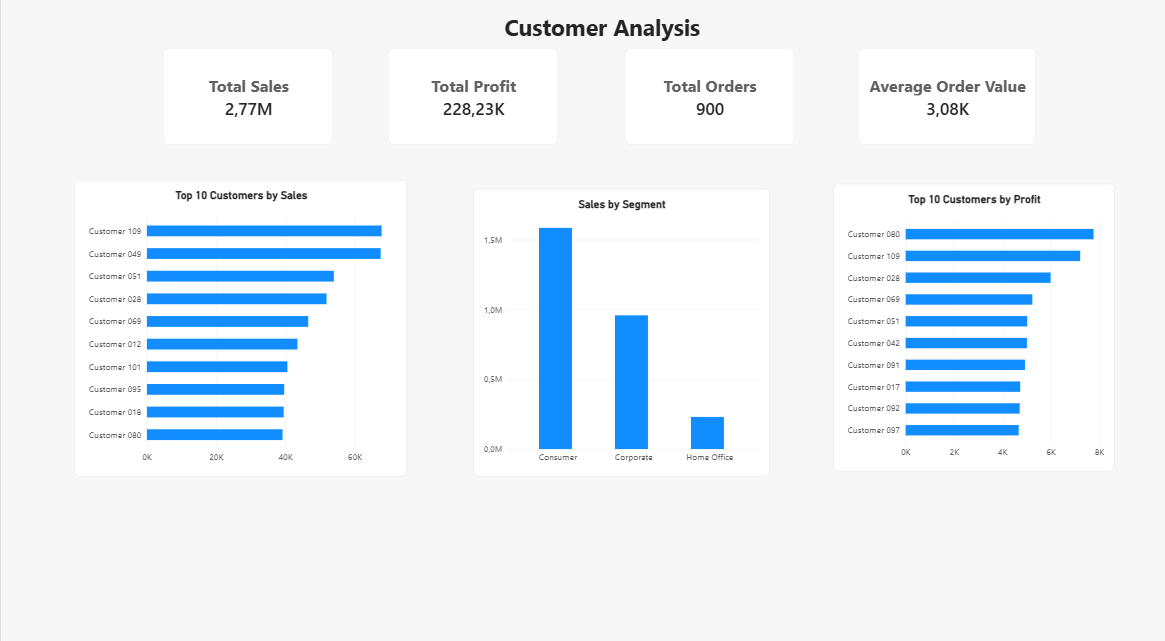

What the dashboard file says about the page in this screenshot:
{"tool":"powerbi","page":{"name":"Customer Analysis","canvas":[1920,1080],"ordinal":2},"visuals":[{"type":"cardVisual","fields":{"Data":["FactSales.Total Sales"]},"box":[267.6,80.3,279.9,158.5],"z":0},{"type":"cardVisual","fields":{"Data":["FactSales.Total Profit"]},"box":[638.1,80.3,279.9,158.5],"z":1000},{"type":"cardVisual","fields":{"Data":["FactSales.Total Orders"]},"box":[1027.1,80.3,279.9,158.5],"z":2000},{"type":"cardVisual","fields":{"Data":["FactSales.Average Order Value"]},"box":[1412,80.3,292.3,158.5],"z":3000},{"type":"textbox","box":[638.1,18.5,703.9,61.7],"z":4000},{"type":"clusteredBarChart","title":"Top 10 Customers by Sales","fields":{"Category":["DimCustomer.Customer Name"],"Y":["FactSales.Total Sales"]},"box":[121.4,296.4,547.5,487.8],"z":5000},{"type":"clusteredColumnChart","title":"Sales by Segment","fields":{"Category":["DimCustomer.Segment"],"Y":["FactSales.Total Sales"]},"box":[778,310.8,487.8,473.4],"z":6000},{"type":"clusteredBarChart","title":"Top 10 Customers by Profit","fields":{"Category":["DimCustomer.Customer Name"],"Y":["FactSales.Total Profit"]},"box":[1370.8,302.6,463.1,473.4],"z":7000}]}

Visuals, with their boxes in screenshot pixels (x1, y1, x2, y2), scaled from the page's 1920x1080 canvas onto the 1165x641 screenshot:
cardVisual - FactSales.Total Sales: <bbox>162, 48, 332, 142</bbox>
cardVisual - FactSales.Total Profit: <bbox>387, 48, 557, 142</bbox>
cardVisual - FactSales.Total Orders: <bbox>623, 48, 793, 142</bbox>
cardVisual - FactSales.Average Order Value: <bbox>857, 48, 1034, 142</bbox>
textbox: <bbox>387, 11, 814, 48</bbox>
"Top 10 Customers by Sales" clusteredBarChart: <bbox>74, 176, 406, 465</bbox>
"Sales by Segment" clusteredColumnChart: <bbox>472, 184, 768, 465</bbox>
"Top 10 Customers by Profit" clusteredBarChart: <bbox>832, 180, 1113, 461</bbox>
